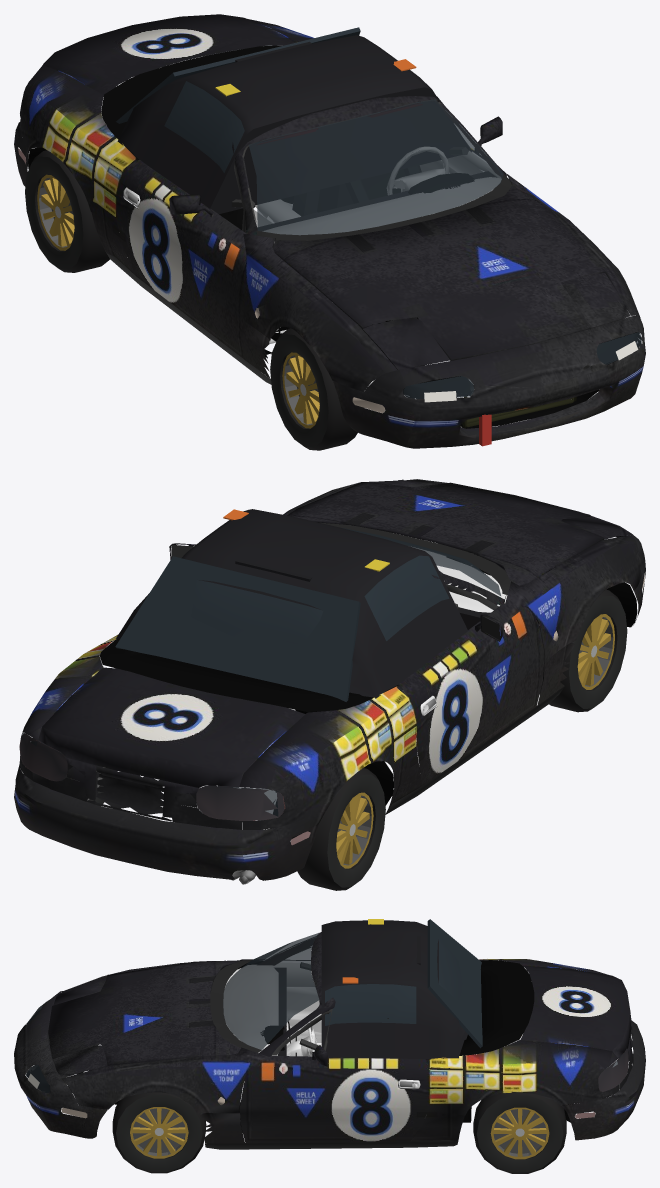
The picture shows the model from 3 angles, top to bottom: view 1: azimuth 30°, elevation 25°; view 2: azimuth 150°, elevation 25°; view 3: azimuth 270°, elevation 25°; orthographic projection. The views are drawn at different scales.
Parts seen in each view (by area): view 1: body, wheel_rr, wheel_fr; view 2: body, wheel_rr, wheel_fr; view 3: body, wheel_rl, wheel_fl.
Boxes of the visible parts, x1=… form: body: x1=14, y1=14, x2=645, y2=448; wheel_rr: x1=25, y1=150, x2=109, y2=272; wheel_fr: x1=270, y1=328, x2=363, y2=450; body: x1=14, y1=479, x2=645, y2=884; wheel_rr: x1=291, y1=768, x2=385, y2=890; wheel_fr: x1=539, y1=589, x2=627, y2=712; body: x1=14, y1=919, x2=645, y2=1149; wheel_rl: x1=473, y1=1092, x2=566, y2=1173; wheel_fl: x1=112, y1=1092, x2=205, y2=1173.
Bounding box in the file's own units: 1.78 × 1.2 × 3.97.
Materials: 2 (1 with a texture image).
